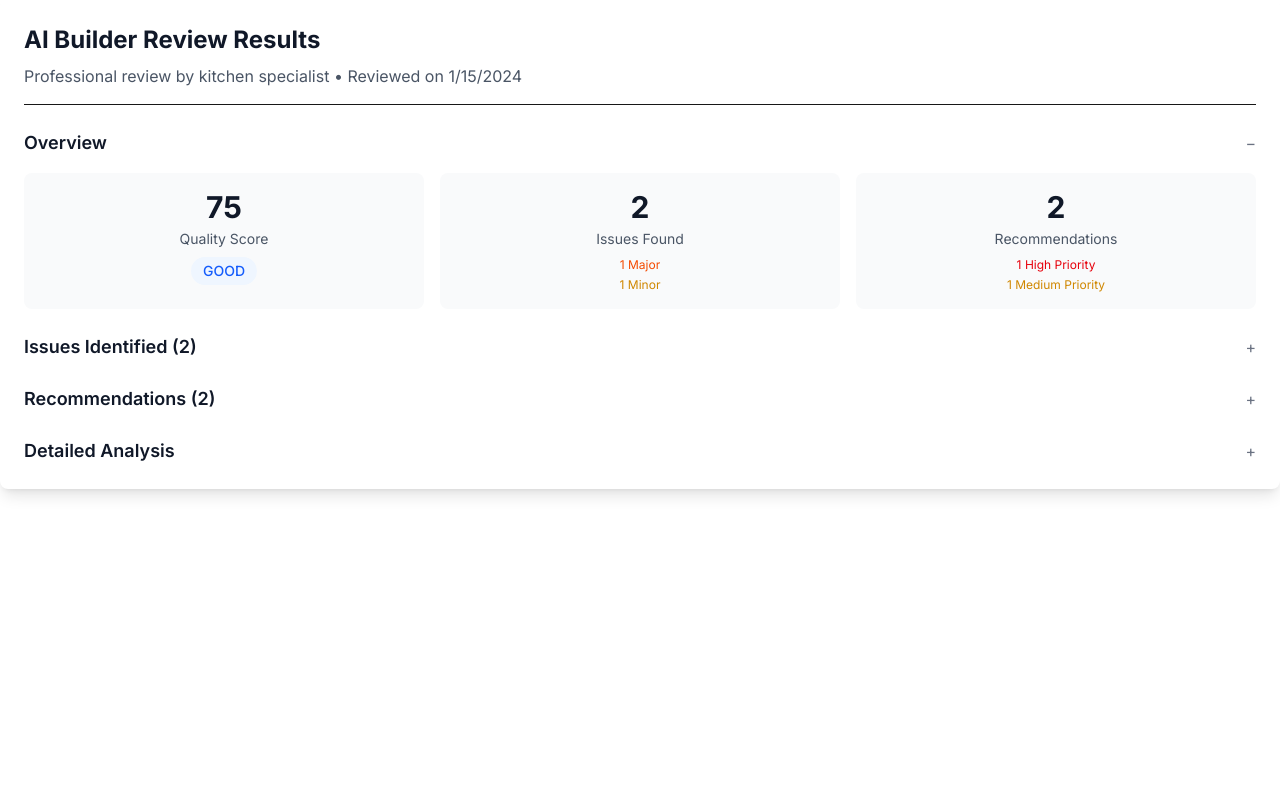
Test: BuilderReviewDisplay › should display issues with correct severity styling
// Expand issues section
Click the heading "Issues Identified (2)".
click(110, 347)  # box [24, 333, 197, 361]
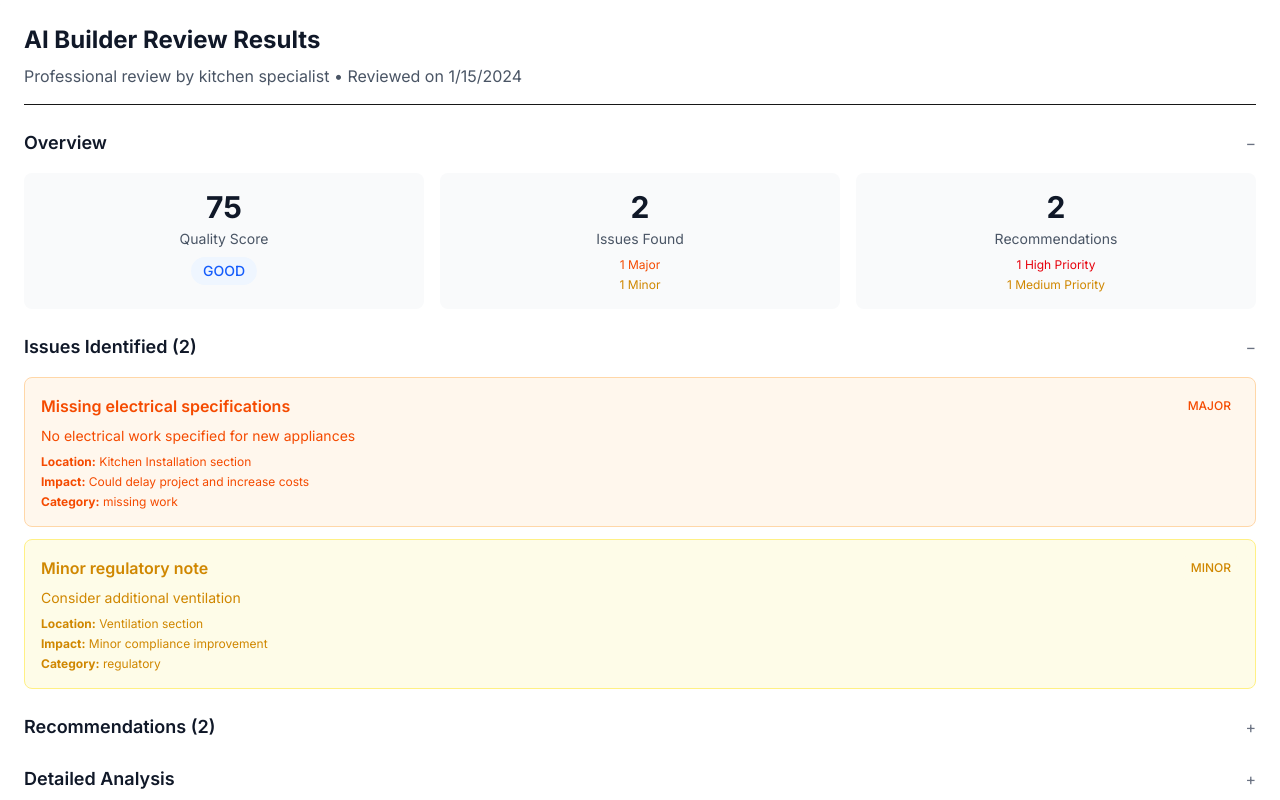
Check: the heading "Missing electrical specifications" is shown, box [41, 394, 290, 418]
Check: the text "MAJOR" is shown, box [1180, 394, 1239, 418]
Check: the heading "Minor regulatory note" is shown, box [41, 556, 208, 580]
